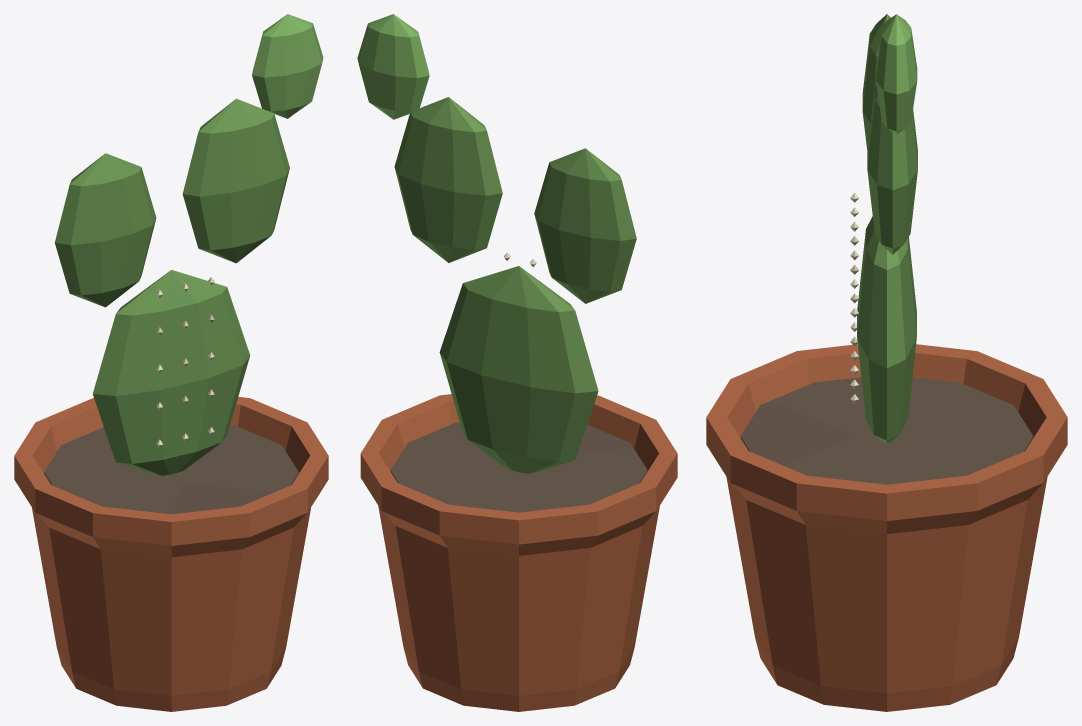
Rendered from bunny.glb.
3 renders of one model, left to right at view 1: azimuth 30°, elevation 25°; view 2: azimuth 150°, elevation 25°; view 3: azimuth 270°, elevation 25°, orthographic. The views are drawn at different scales.
Visible parts, largest first — view 1: bunny/review-terra-vessel, bunny/flat-stem-pad-001, bunny/review-rooted-soil, bunny/flat-stem-pad-003, bunny/flat-stem-pad-002, bunny/flat-stem-pad-004; view 2: bunny/review-terra-vessel, bunny/flat-stem-pad-001, bunny/review-rooted-soil, bunny/flat-stem-pad-003, bunny/flat-stem-pad-002, bunny/flat-stem-pad-004; view 3: bunny/review-terra-vessel, bunny/review-rooted-soil, bunny/flat-stem-pad-001, bunny/flat-stem-pad-003, bunny/flat-stem-pad-004, bunny/flat-stem-pad-002.
Boxes of the visible parts, left/top/right/bottom form: bunny/review-terra-vessel: left=14, top=397, right=328, bottom=711; bunny/flat-stem-pad-001: left=93, top=270, right=250, bottom=475; bunny/review-rooted-soil: left=44, top=425, right=298, bottom=514; bunny/flat-stem-pad-003: left=182, top=98, right=289, bottom=263; bunny/flat-stem-pad-002: left=54, top=153, right=156, bottom=307; bunny/flat-stem-pad-004: left=252, top=14, right=323, bottom=118; bunny/review-terra-vessel: left=360, top=394, right=677, bottom=711; bunny/flat-stem-pad-001: left=439, top=266, right=598, bottom=473; bunny/review-rooted-soil: left=390, top=422, right=647, bottom=512; bunny/flat-stem-pad-003: left=394, top=97, right=502, bottom=262; bunny/flat-stem-pad-002: left=534, top=148, right=636, bottom=303; bunny/flat-stem-pad-004: left=357, top=14, right=429, bottom=119; bunny/review-terra-vessel: left=706, top=344, right=1067, bottom=711; bunny/review-rooted-soil: left=740, top=377, right=1033, bottom=484; bunny/flat-stem-pad-001: left=857, top=216, right=916, bottom=443; bunny/flat-stem-pad-003: left=867, top=85, right=917, bottom=254; bunny/flat-stem-pad-004: left=875, top=14, right=917, bottom=134; bunny/flat-stem-pad-002: left=862, top=14, right=890, bottom=149.
Bounding box in the file's own units: 0.204 × 0.413 × 0.19.
Materials: 4 (4 with a texture image).
